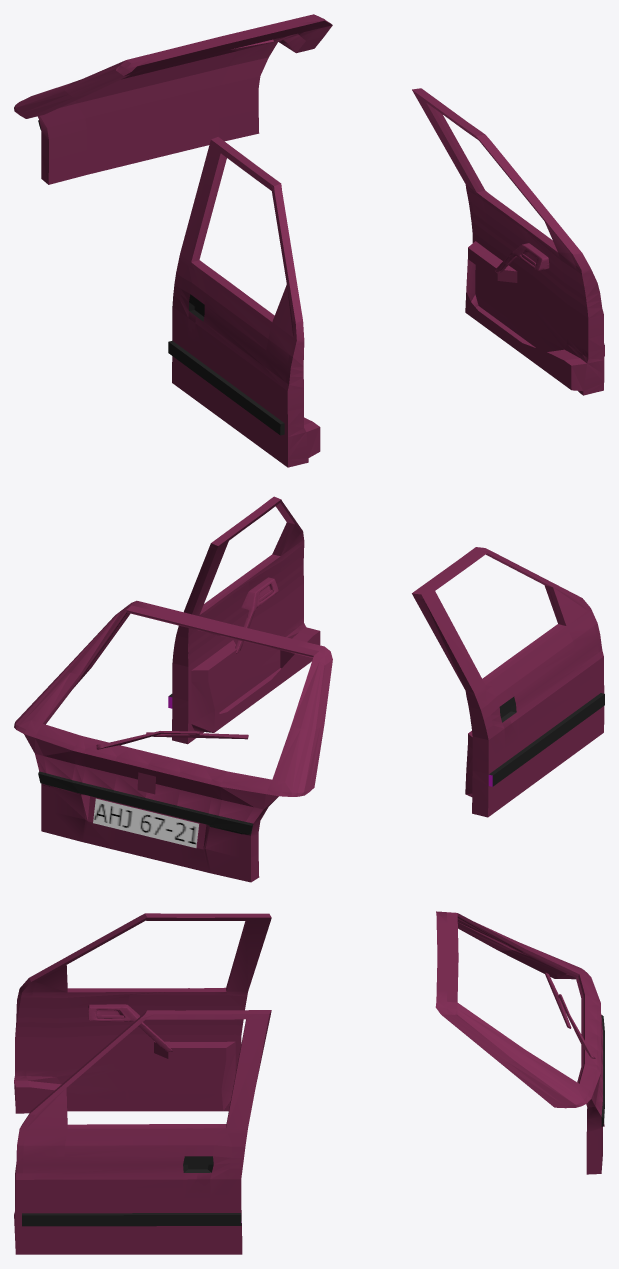
The model's file is dvere_zadek.obj.
3 renders of one model, top to bottom at view 1: azimuth 30°, elevation 25°; view 2: azimuth 150°, elevation 25°; view 3: azimuth 270°, elevation 25°, orthographic. The views are drawn at different scales.
Visible parts, largest first — view 1: dvere_kufr; view 2: dvere_kufr; view 3: dvere_kufr.
Boxes of the visible parts, x1,y1,x2,y2 form: dvere_kufr: [14, 14, 604, 467]; dvere_kufr: [14, 496, 604, 882]; dvere_kufr: [14, 911, 604, 1254].
Bounding box in the file's own units: 1.54 × 1.03 × 2.48.
Materials: 1 (1 with a texture image).
